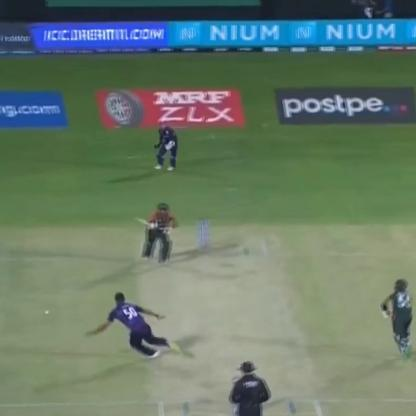ball: (39, 304, 53, 318)
pitch: (129, 233, 332, 415)
